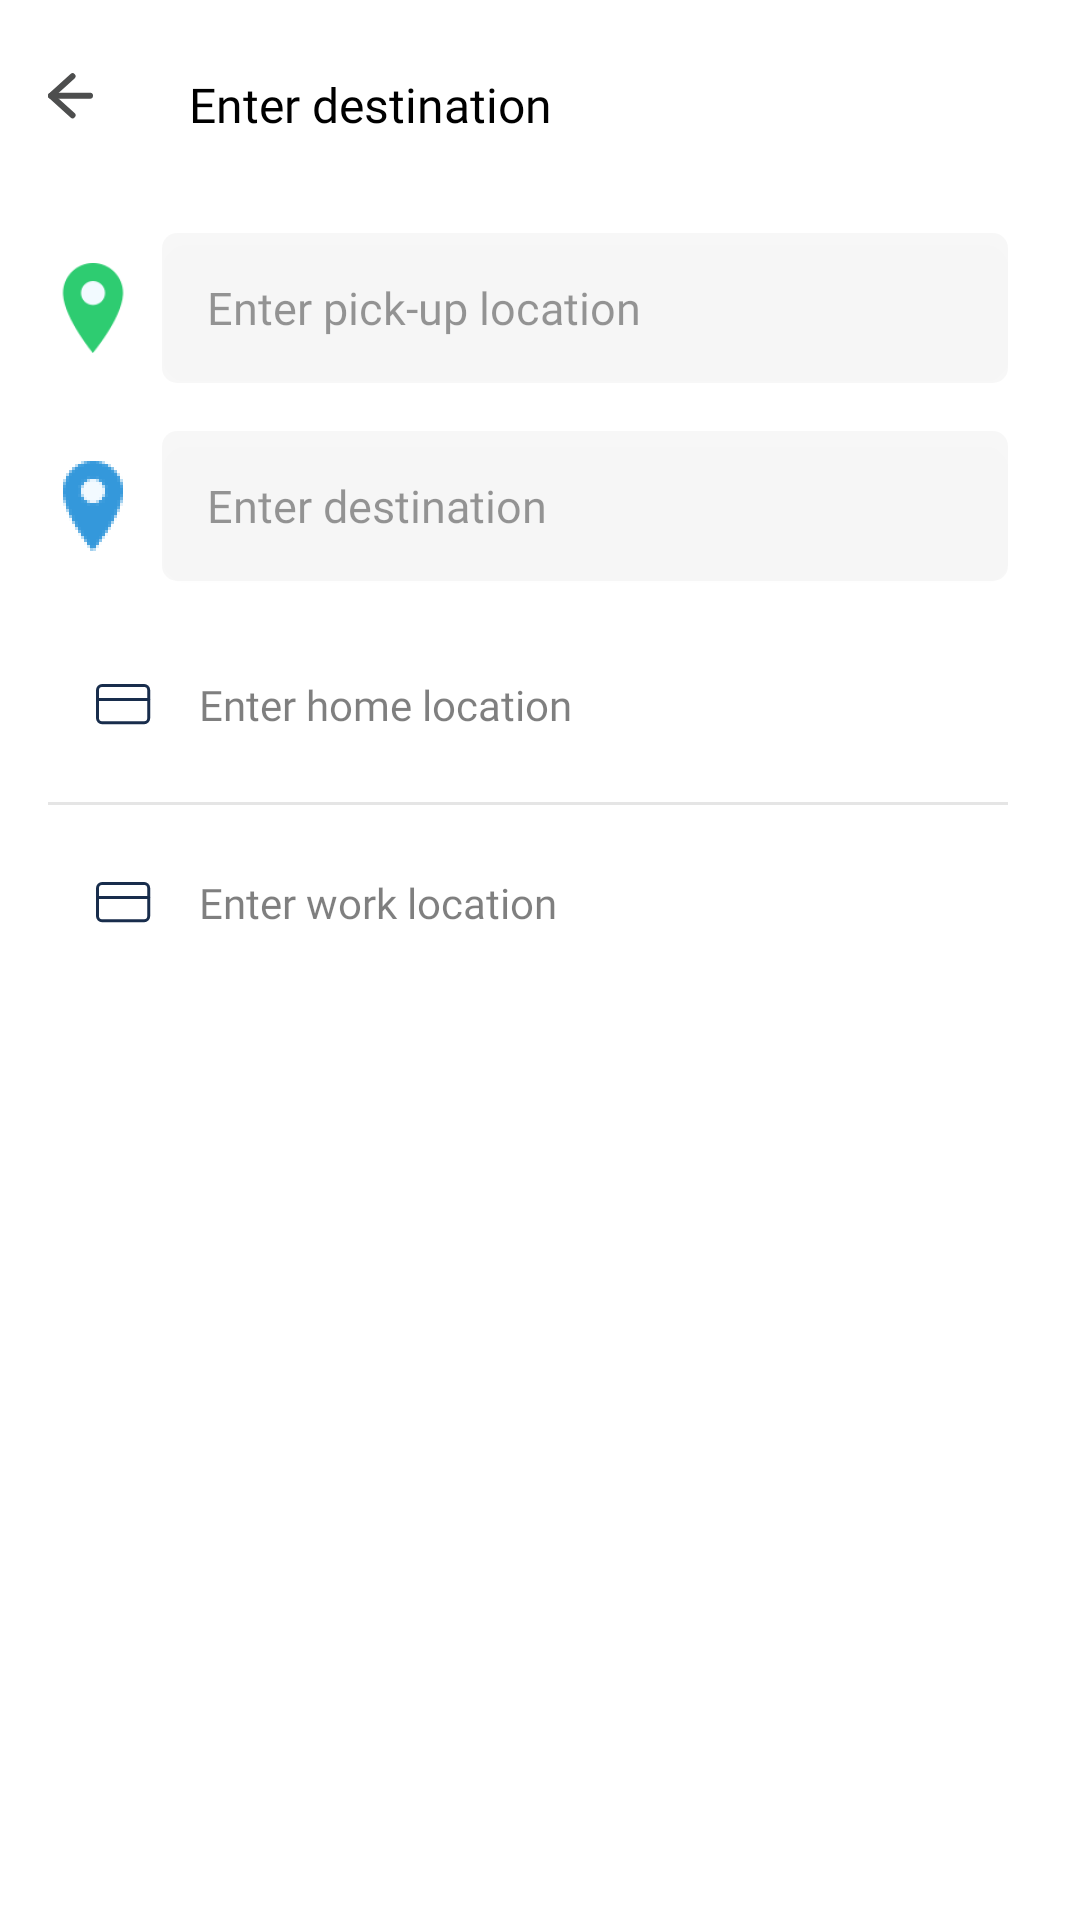

Screen size 1080*1920. Icon name, then its center in pixels as (x,y):
arrow left: (70,96)
credit card: (123,704), (123,902)
marker: (93,308), (93,506)
